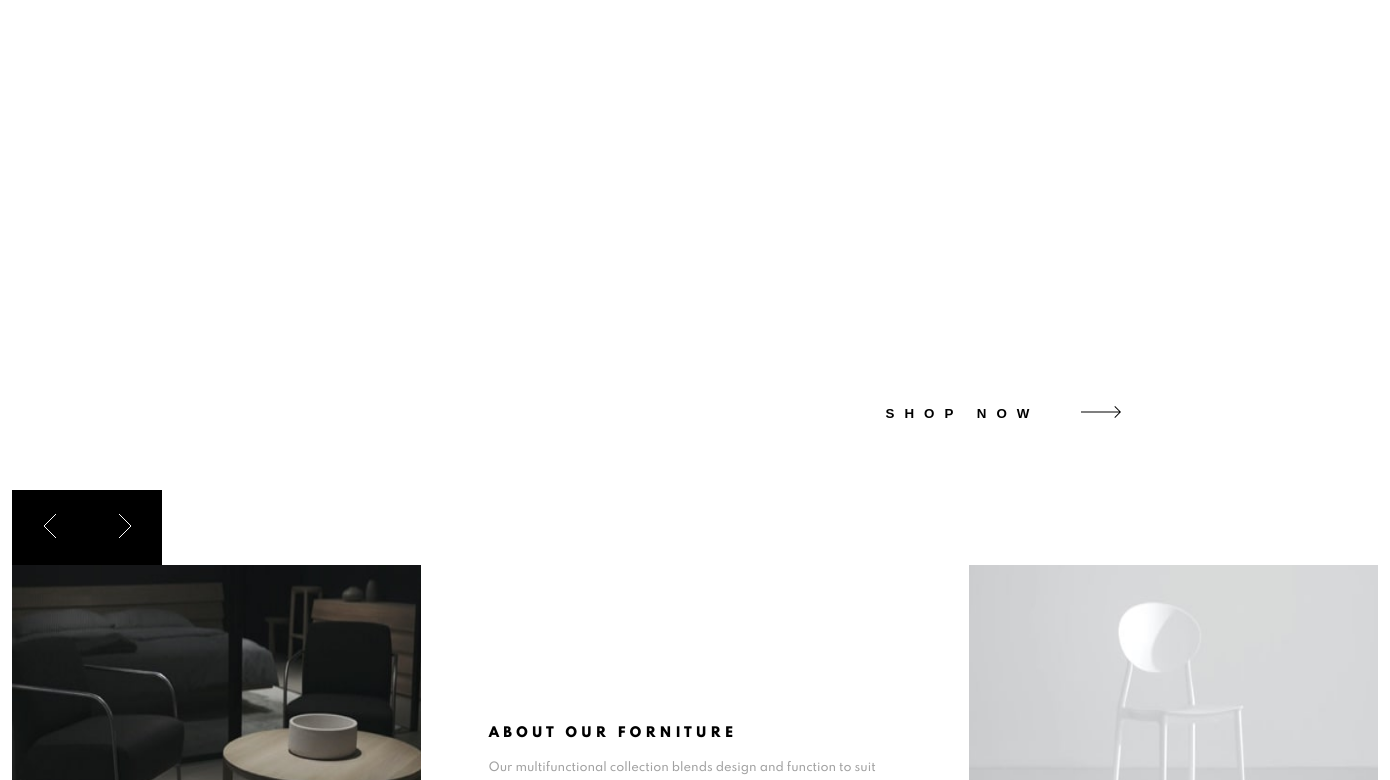
slider changes tests › should description change to the next when click next slider toggler
Click the 2nd button named "right angle icon".
click(125, 528)  # box [87,490,162,565]
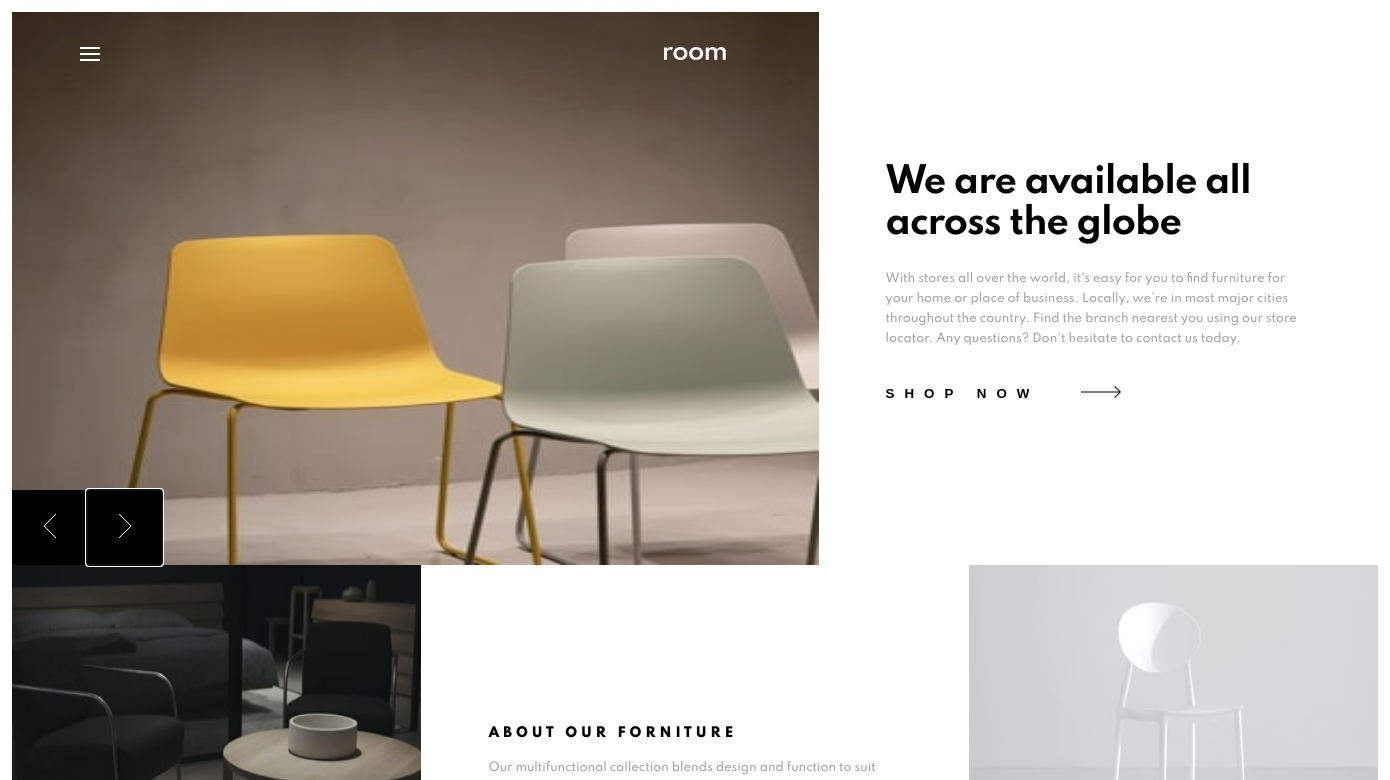
Now the heading titled "slider title" reads "We are available all across the globe", box [886,163,1251,243]
Now the text titled "slider description" shows "With stores all over the world, it's easy for you to find furniture for your home or place of business. Locally, we’re in most major cities throughout the count", box [886,272,1297,345]
